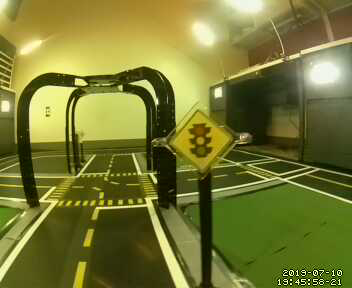Traffic light sign: (170, 108, 234, 176)
